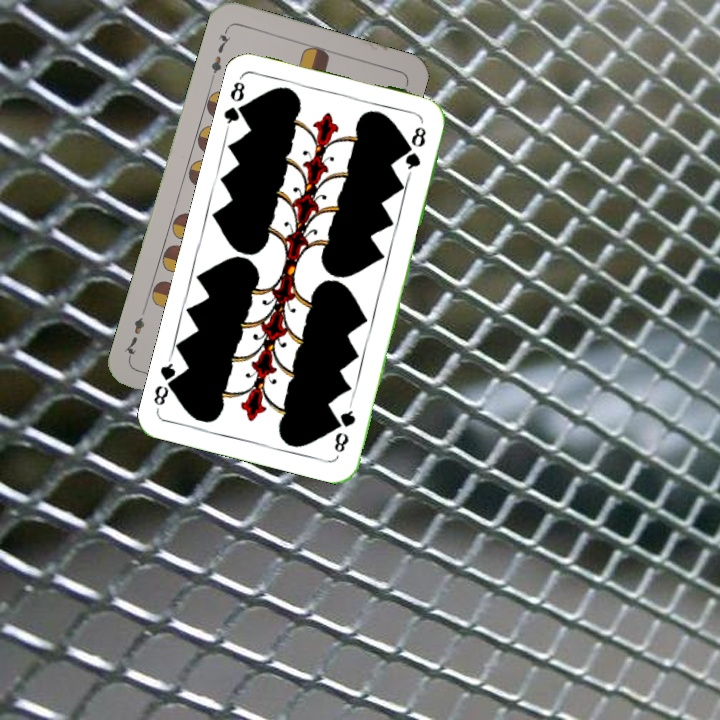E7: (207, 24, 234, 76)
G8: (220, 72, 252, 131), (330, 400, 358, 455)
